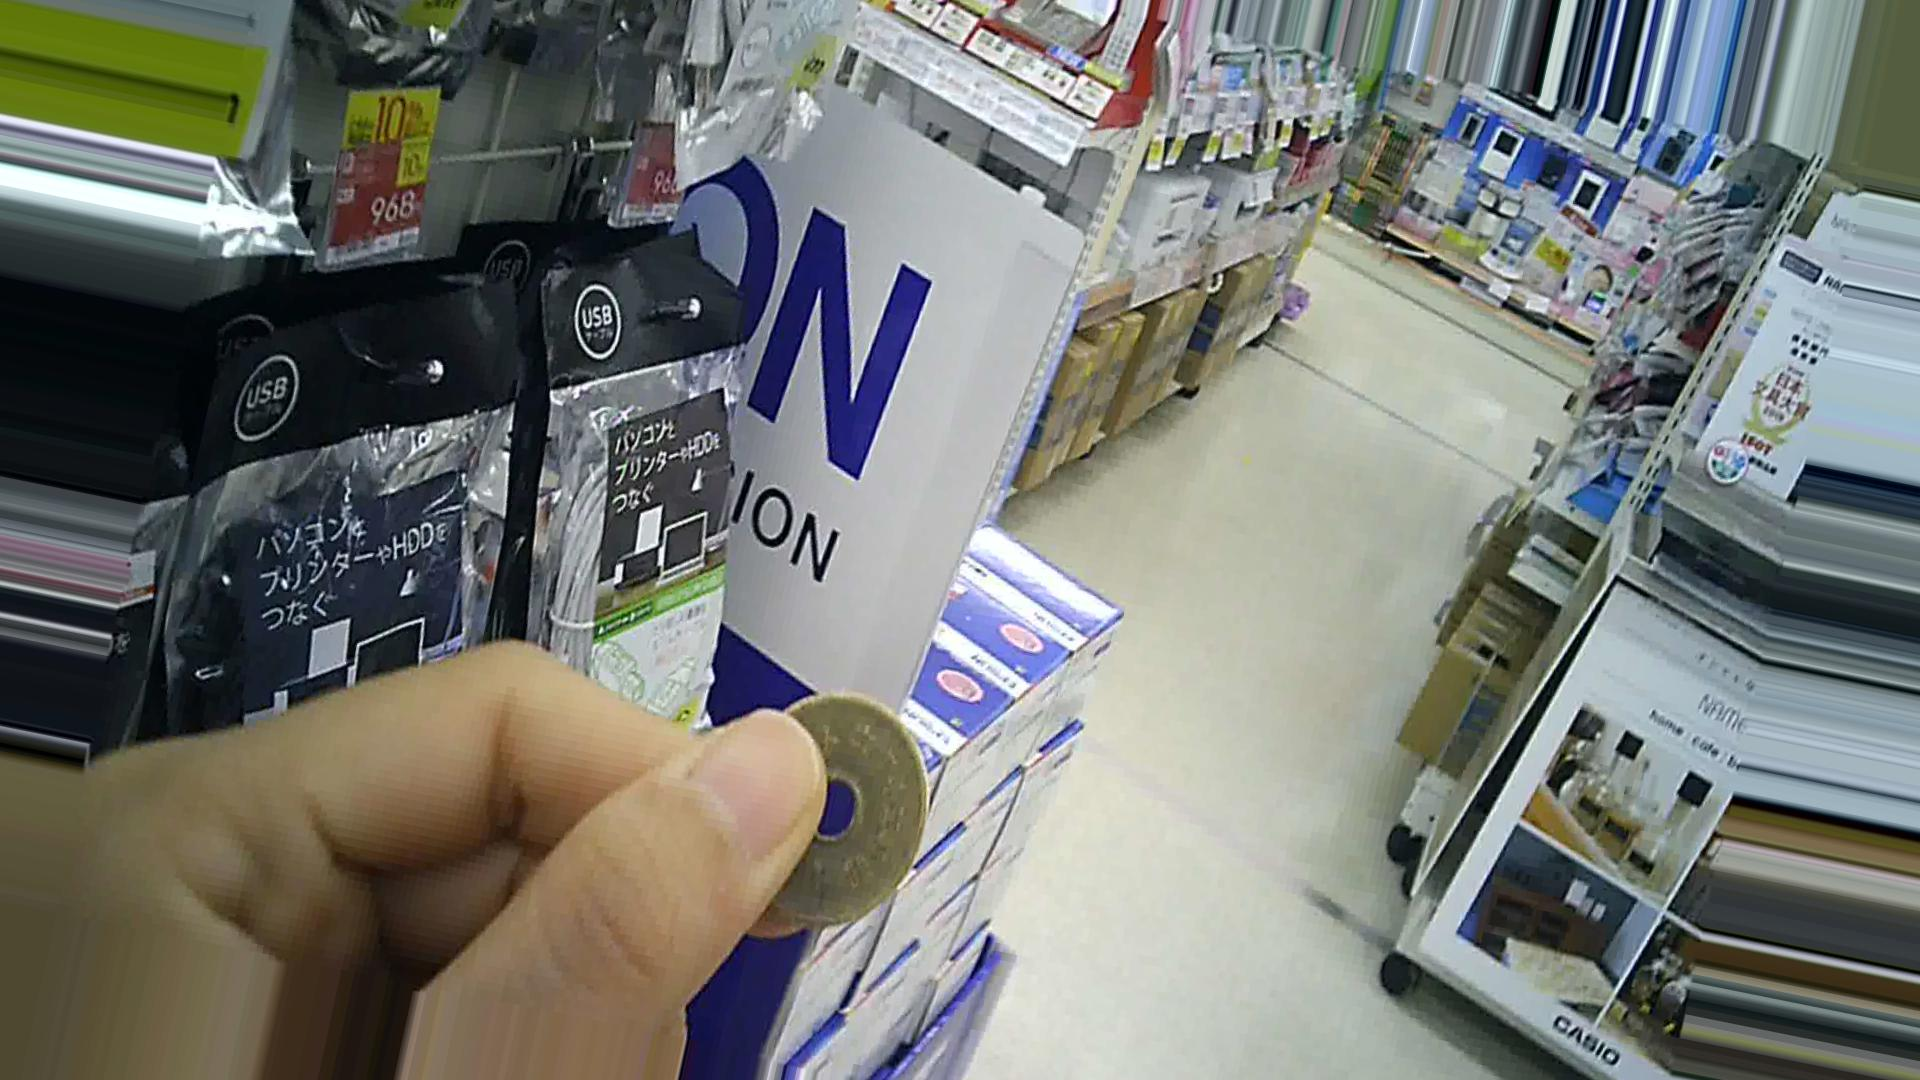5 Yen: (746, 680, 926, 924)
